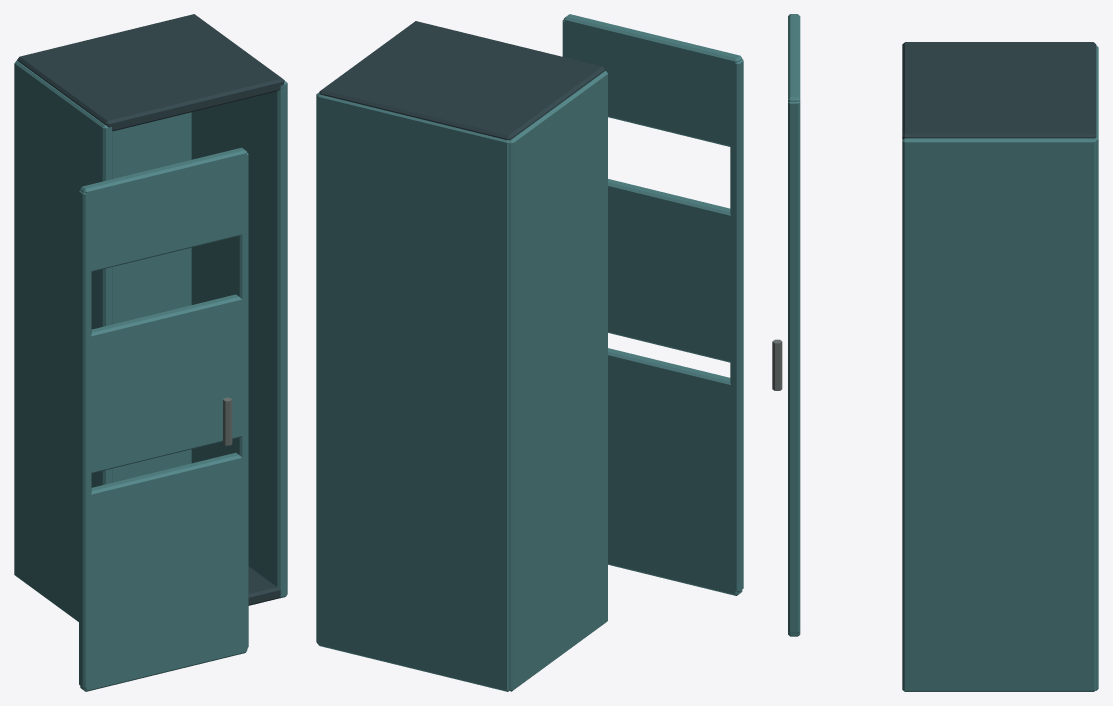
The model's file is locker-single.glb.
3 views of the same model, side by side, from view 1: azimuth 30°, elevation 25°; view 2: azimuth 150°, elevation 25°; view 3: azimuth 270°, elevation 25° (orthographic). The views are drawn at different scales.
Parts seen in each view (by area): view 1: locker-single__locker-door__petrol, locker-single__locker-single__petrol, locker-single__locker-single__steel, locker-single__locker-door__hardware; view 2: locker-single__locker-single__petrol, locker-single__locker-door__petrol, locker-single__locker-single__steel; view 3: locker-single__locker-single__petrol, locker-single__locker-single__steel, locker-single__locker-door__petrol, locker-single__locker-door__hardware.
Boxes of the visible parts, left/top/right/bottom form: locker-single__locker-door__petrol: left=79, top=147, right=248, bottom=691; locker-single__locker-single__petrol: left=14, top=60, right=287, bottom=621; locker-single__locker-single__steel: left=17, top=14, right=284, bottom=605; locker-single__locker-door__hardware: left=223, top=397, right=232, bottom=445; locker-single__locker-single__petrol: left=316, top=71, right=607, bottom=691; locker-single__locker-door__petrol: left=562, top=14, right=743, bottom=595; locker-single__locker-single__steel: left=319, top=21, right=604, bottom=140; locker-single__locker-single__petrol: left=902, top=45, right=1098, bottom=691; locker-single__locker-single__steel: left=902, top=42, right=1096, bottom=139; locker-single__locker-door__petrol: left=788, top=14, right=800, bottom=636; locker-single__locker-door__hardware: left=772, top=339, right=782, bottom=390.
Bounding box in the file's own units: 1.15 × 2.22 × 1.18.
